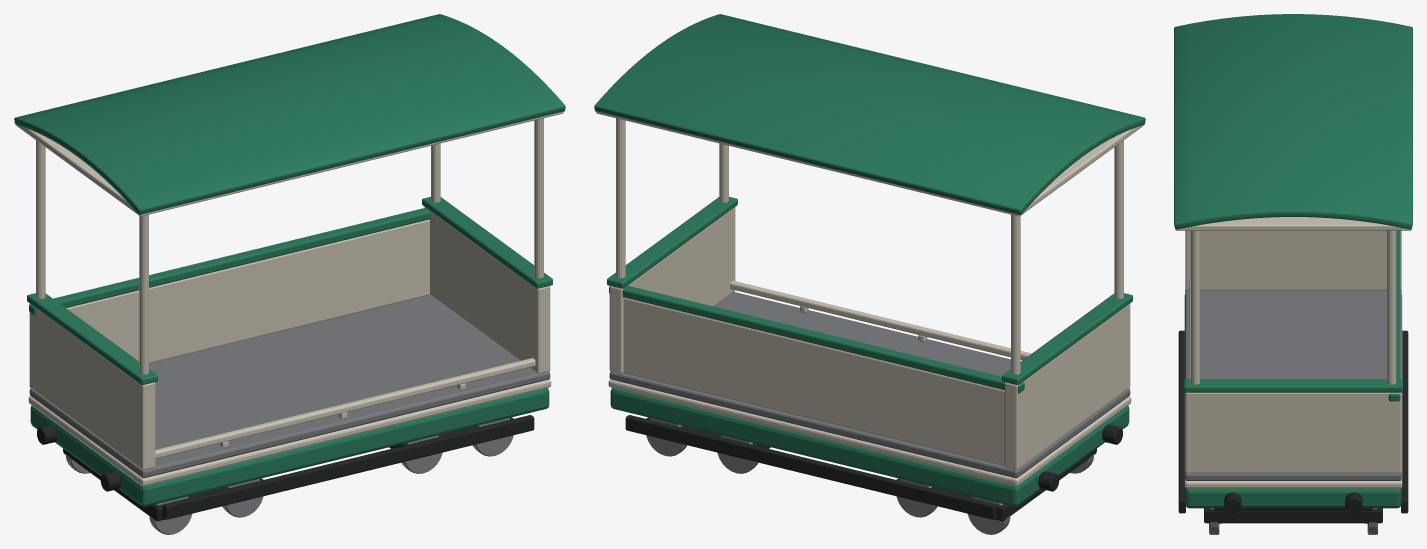
File: tram_car.glb
3 views of the same model, side by side, from view 1: azimuth 30°, elevation 25°; view 2: azimuth 150°, elevation 25°; view 3: azimuth 270°, elevation 25° (orthographic). The views are drawn at different scales.
Visible parts, largest first — view 1: car; view 2: car; view 3: car.
Part boxes in pixels (<box>): car: <box>14,14,565,534</box>; car: <box>594,14,1145,534</box>; car: <box>1174,14,1412,534</box>.
Size of the model in its own units: 3.3 by 2.65 by 1.66.
